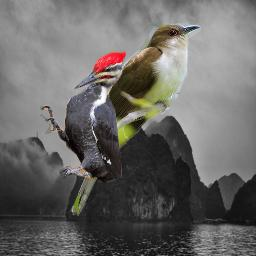Cuckoo: (70, 22, 201, 216)
Woodpecker: (40, 51, 126, 183)
